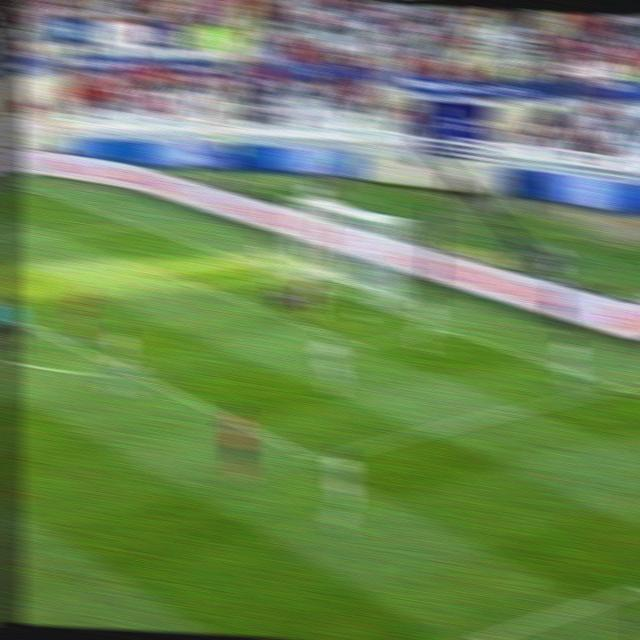bigarea_bottom_inner: (298, 444, 331, 472)
bigarea_bottom_outter: (600, 373, 634, 400)
bigarea_top_outter: (119, 214, 148, 232)
bottom_arc_area_intersection: (115, 362, 141, 383)
corner: (15, 179, 42, 195)
smallarea_bottom_inner: (346, 332, 374, 354)
smallarea_bottom_outter: (427, 318, 458, 340)
smallarea_top_inner: (143, 259, 174, 279)
smallarea_top_outter: (219, 247, 247, 266)
top_arc_area_intersection: (115, 362, 141, 383)
